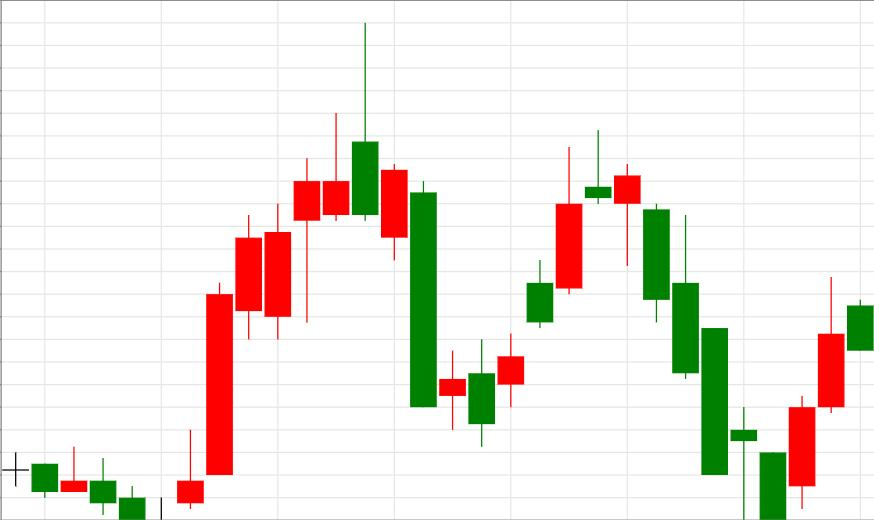shooting_star_fall: (177, 114, 350, 509)
three_black_crows_fall: (469, 129, 728, 475)
